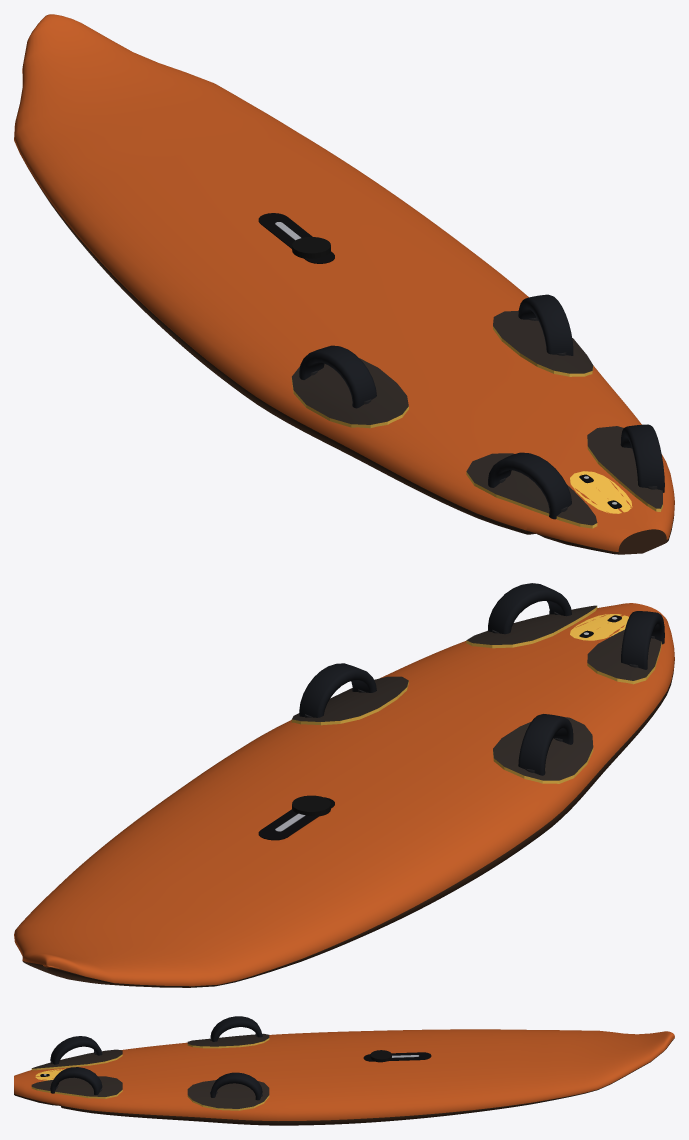
The model's file is savanna_freerace_125.glb.
3 renders of one model, top to bottom at view 1: azimuth 30°, elevation 25°; view 2: azimuth 150°, elevation 25°; view 3: azimuth 270°, elevation 25°, orthographic. The views are drawn at different scales.
Visible parts, largest first — view 1: Hull, DeckPads, Footstraps, MastTrack; view 2: Hull, DeckPads, Footstraps, MastTrack; view 3: Hull, DeckPads, Footstraps, MastTrack.
Part boxes in pixels (x1=…): Hull: x1=14, y1=14, x2=674, y2=554; DeckPads: x1=291, y1=311, x2=662, y2=528; Footstraps: x1=299, y1=294, x2=664, y2=519; MastTrack: x1=258, y1=213, x2=334, y2=263; Hull: x1=14, y1=603, x2=674, y2=987; DeckPads: x1=291, y1=605, x2=661, y2=783; Footstraps: x1=299, y1=583, x2=664, y2=775; MastTrack: x1=258, y1=795, x2=334, y2=840; Hull: x1=14, y1=1029, x2=674, y2=1125; DeckPads: x1=31, y1=1033, x2=269, y2=1110; Footstraps: x1=50, y1=1016, x2=262, y2=1100; MastTrack: x1=363, y1=1050, x2=431, y2=1062.
Size of the model in its own units: 0.71 by 0.2385 by 2.44.
